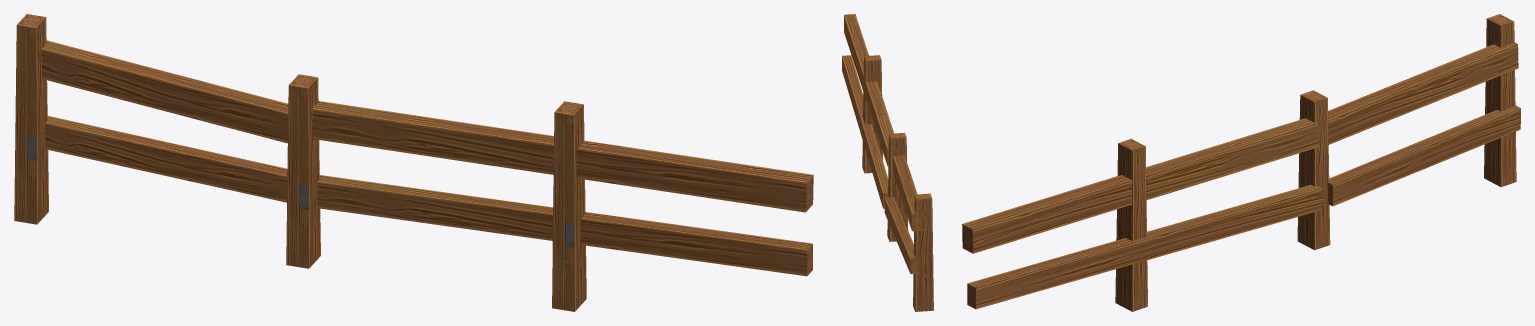
3 renders of one model, left to right at view 1: azimuth 30°, elevation 25°; view 2: azimuth 150°, elevation 25°; view 3: azimuth 270°, elevation 25°, orthographic. The views are drawn at different scales.
Parts seen in each view (by area): view 1: Cube.2040; view 2: Cube.2040; view 3: Cube.2040.
Part boxes in pixels (bbox=[...]): Cube.2040: bbox=[14, 14, 813, 311]; Cube.2040: bbox=[842, 14, 933, 311]; Cube.2040: bbox=[962, 14, 1520, 311].
Size of the model in its own units: 339 by 132 by 417.
Materials: 1 (1 with a texture image).
